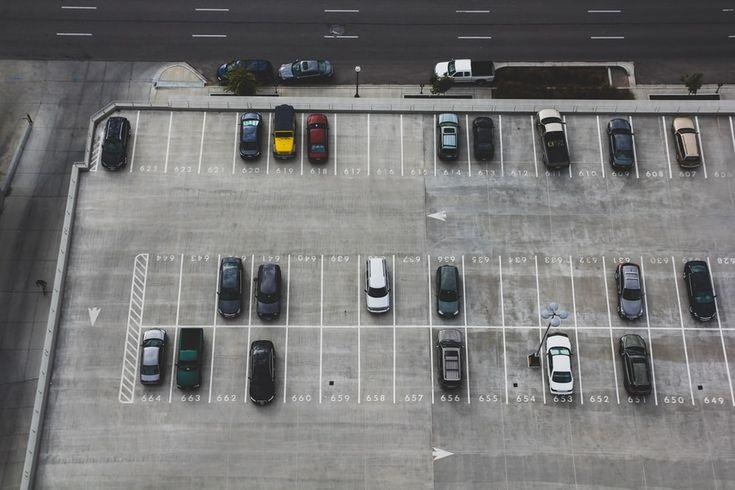car: (610, 321, 662, 411), (598, 247, 653, 331), (669, 247, 724, 331), (537, 323, 585, 409), (426, 321, 474, 404), (353, 248, 402, 329), (244, 322, 288, 410), (659, 108, 710, 182), (169, 322, 214, 404), (133, 323, 176, 408), (424, 250, 471, 327), (248, 244, 290, 329), (463, 106, 508, 184), (594, 106, 642, 179), (529, 107, 577, 179), (213, 245, 253, 329), (265, 102, 307, 178), (232, 102, 271, 179), (300, 101, 339, 178), (432, 107, 471, 180), (100, 105, 135, 176)
